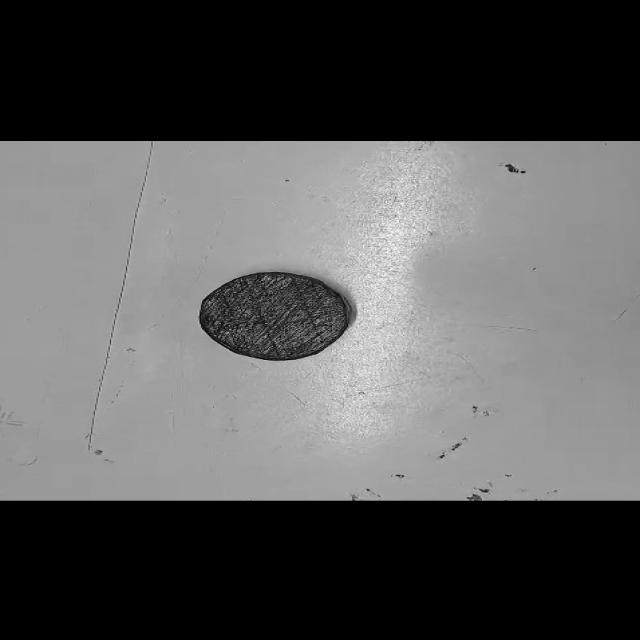bcircle: (196, 270, 352, 360)
